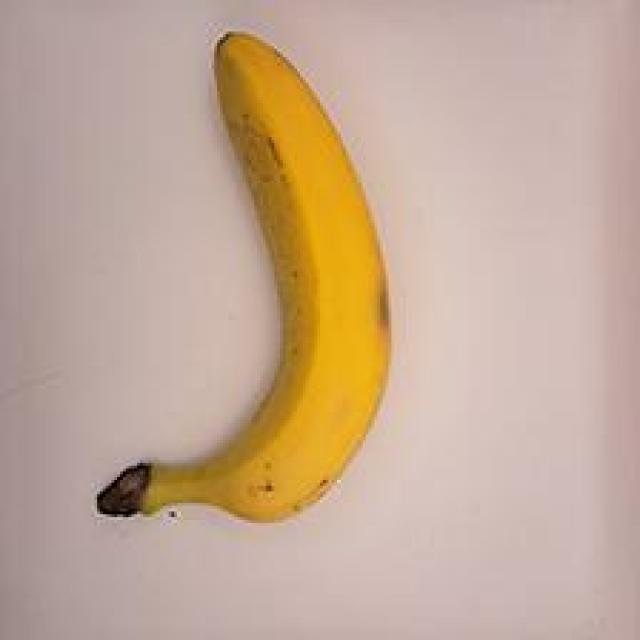Ripe: (44, 3, 438, 560)
